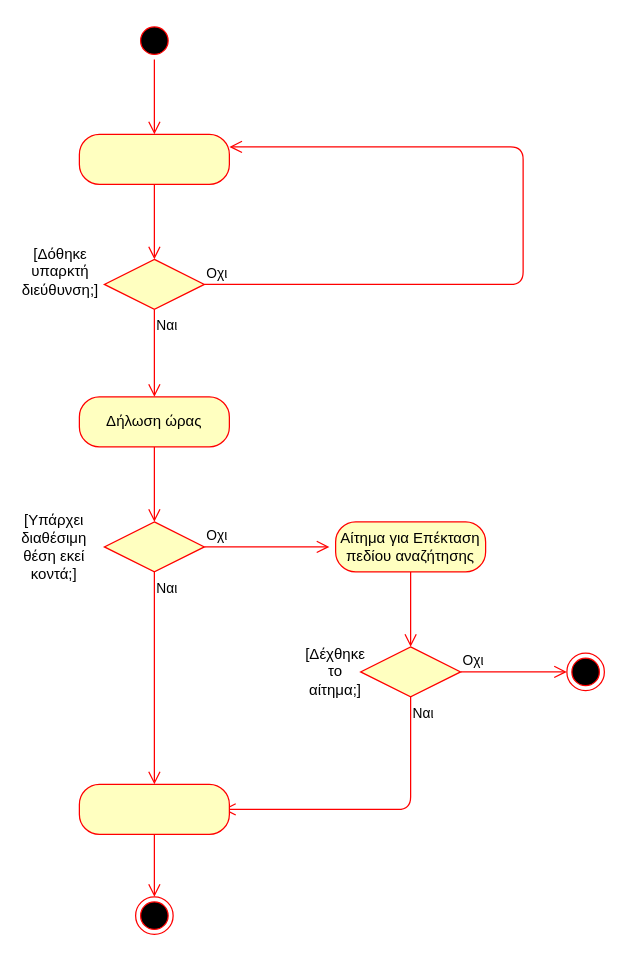
This 626x956 diagram has some shape labels left out. Each missing label, with the centre of its shape:
Δήλωση διεύθυνσης: the point at 153,158
Επιλογή επιθυμητής θέσης σταύθμευσης: the point at 153,808
